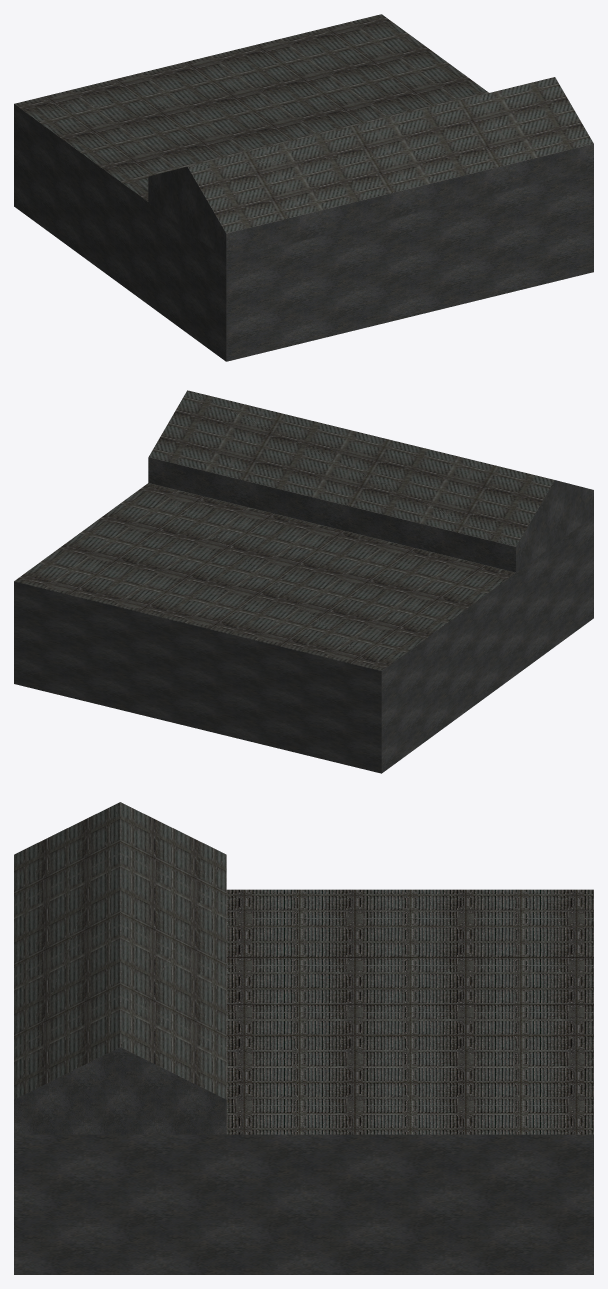
The model's file is SM_LabHouse01.fbx.
3 views of the same model, one above another, from view 1: azimuth 30°, elevation 25°; view 2: azimuth 150°, elevation 25°; view 3: azimuth 270°, elevation 25° (orthographic). The views are drawn at different scales.
Parts seen in each view (by area): view 1: Room; view 2: Room; view 3: Room.
Boxes of the visible parts, box(x1,y1,x2,y2) form: Room: box(14, 14, 593, 361); Room: box(14, 390, 593, 773); Room: box(14, 802, 593, 1274).
Size of the model in its own units: 3000 by 1300 by 3000.
2 materials, 2 textured.
